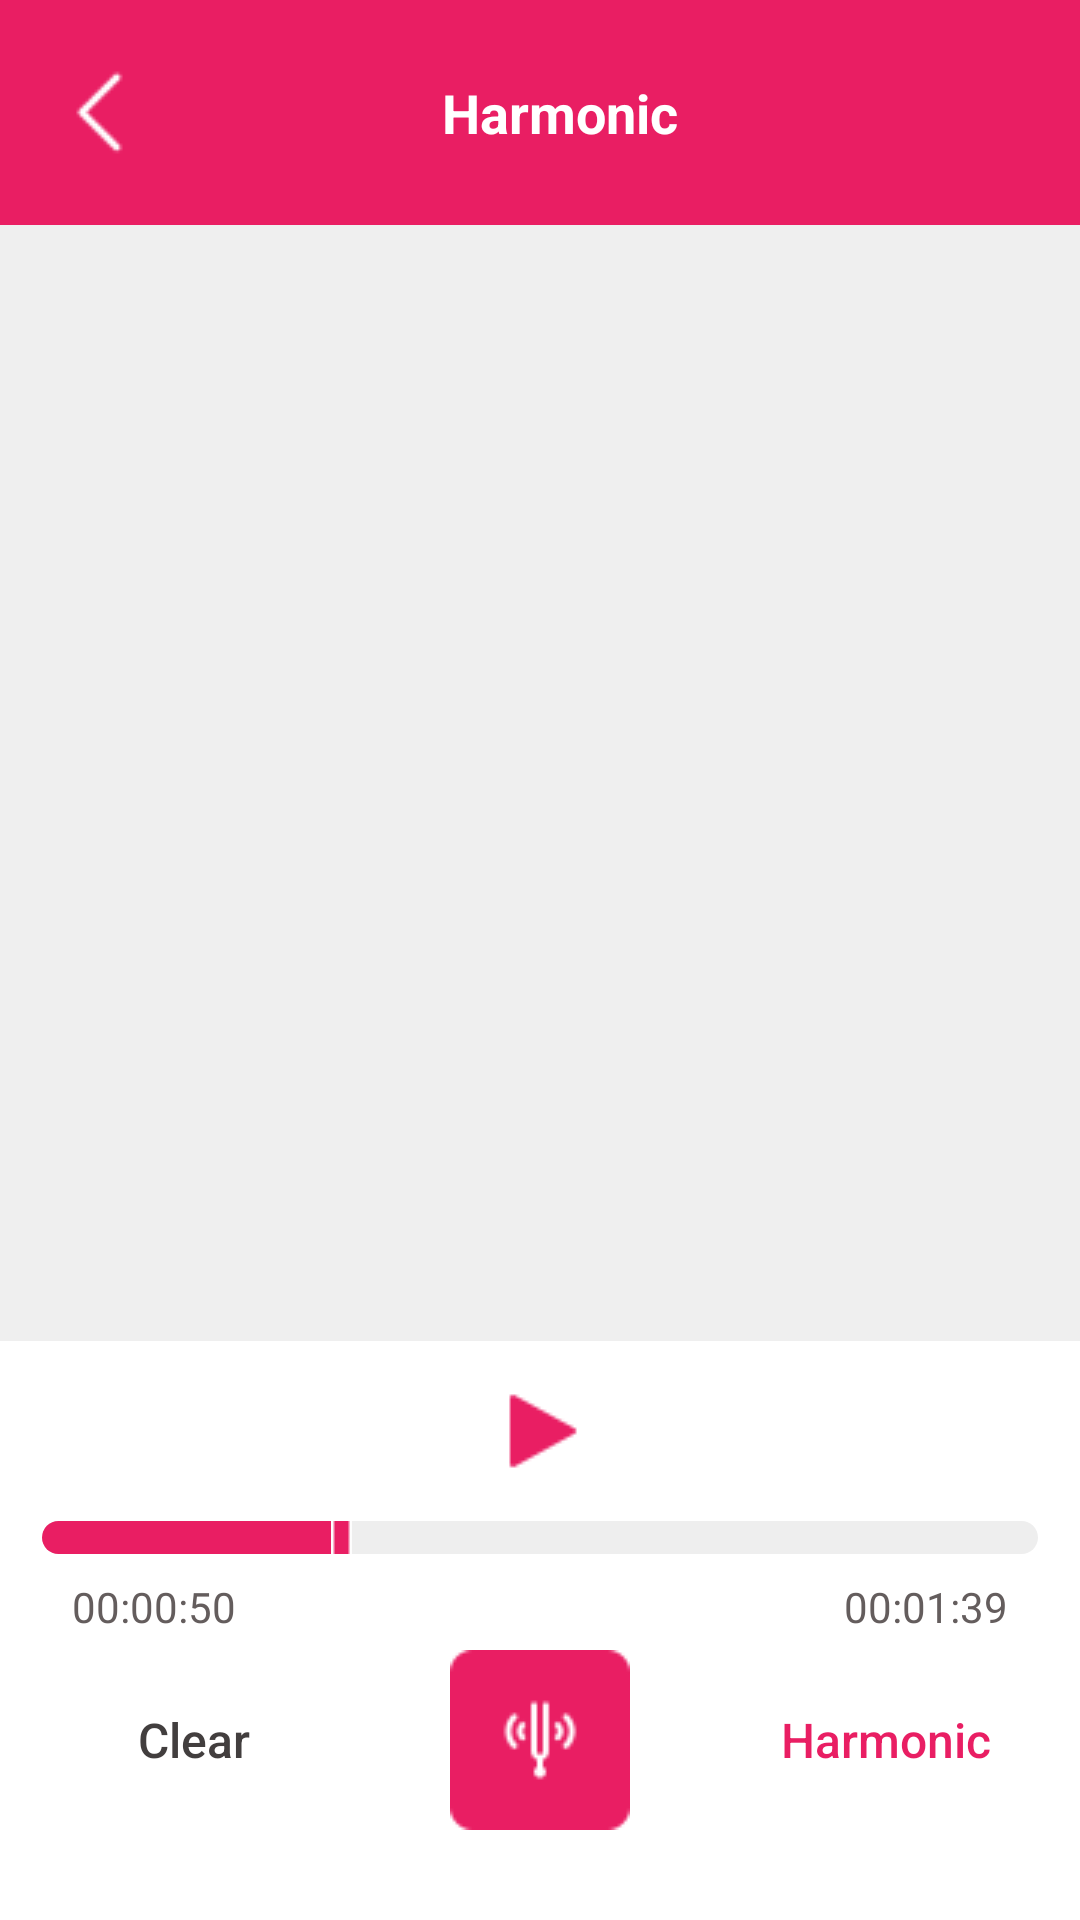

Where to tap for icons on this 1080px x 1920px app screen, as (x=x, y=y):
back: (x=99, y=112)
play combine main: (x=543, y=1431)
